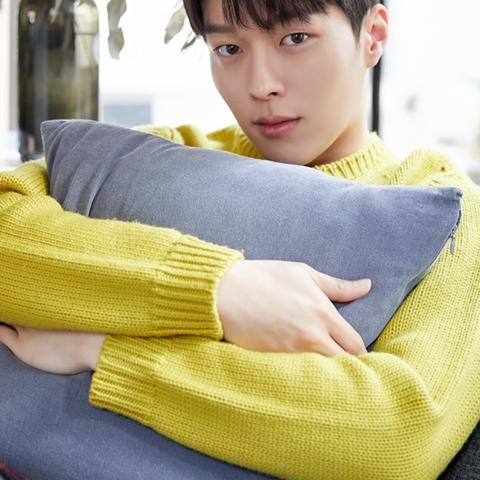opened: (190, 16, 323, 71)
